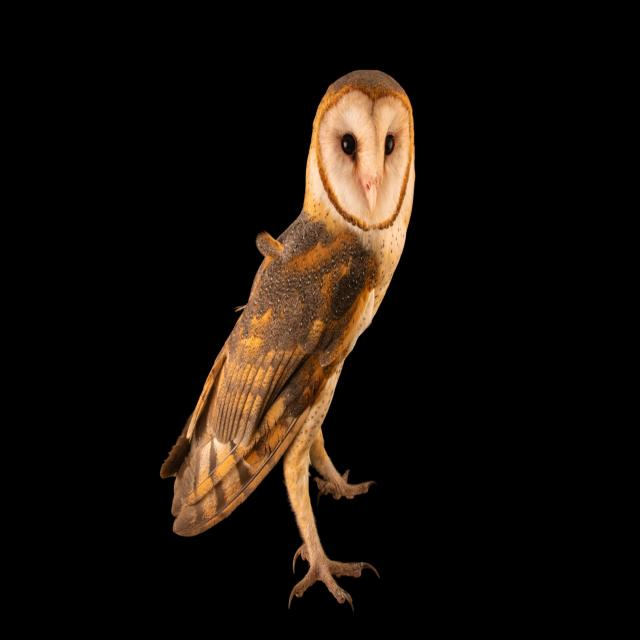Owl: (159, 61, 416, 608)
